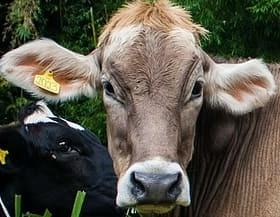muzzles: (114, 162, 195, 214)
